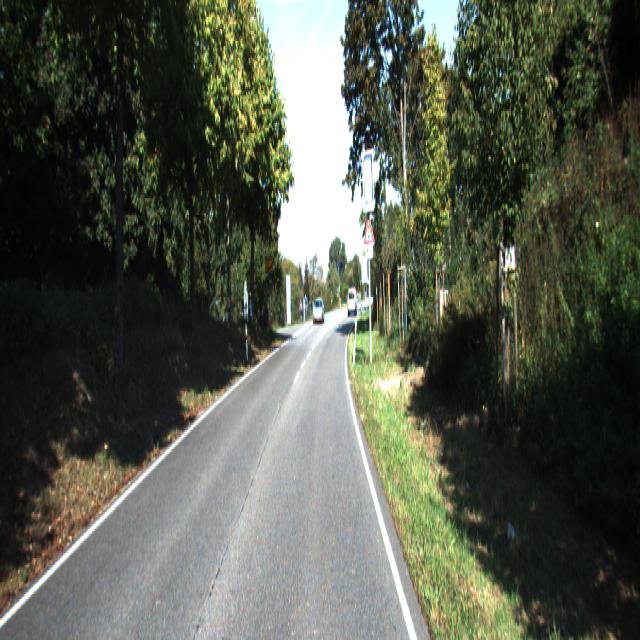Car: (313, 299, 324, 324)
